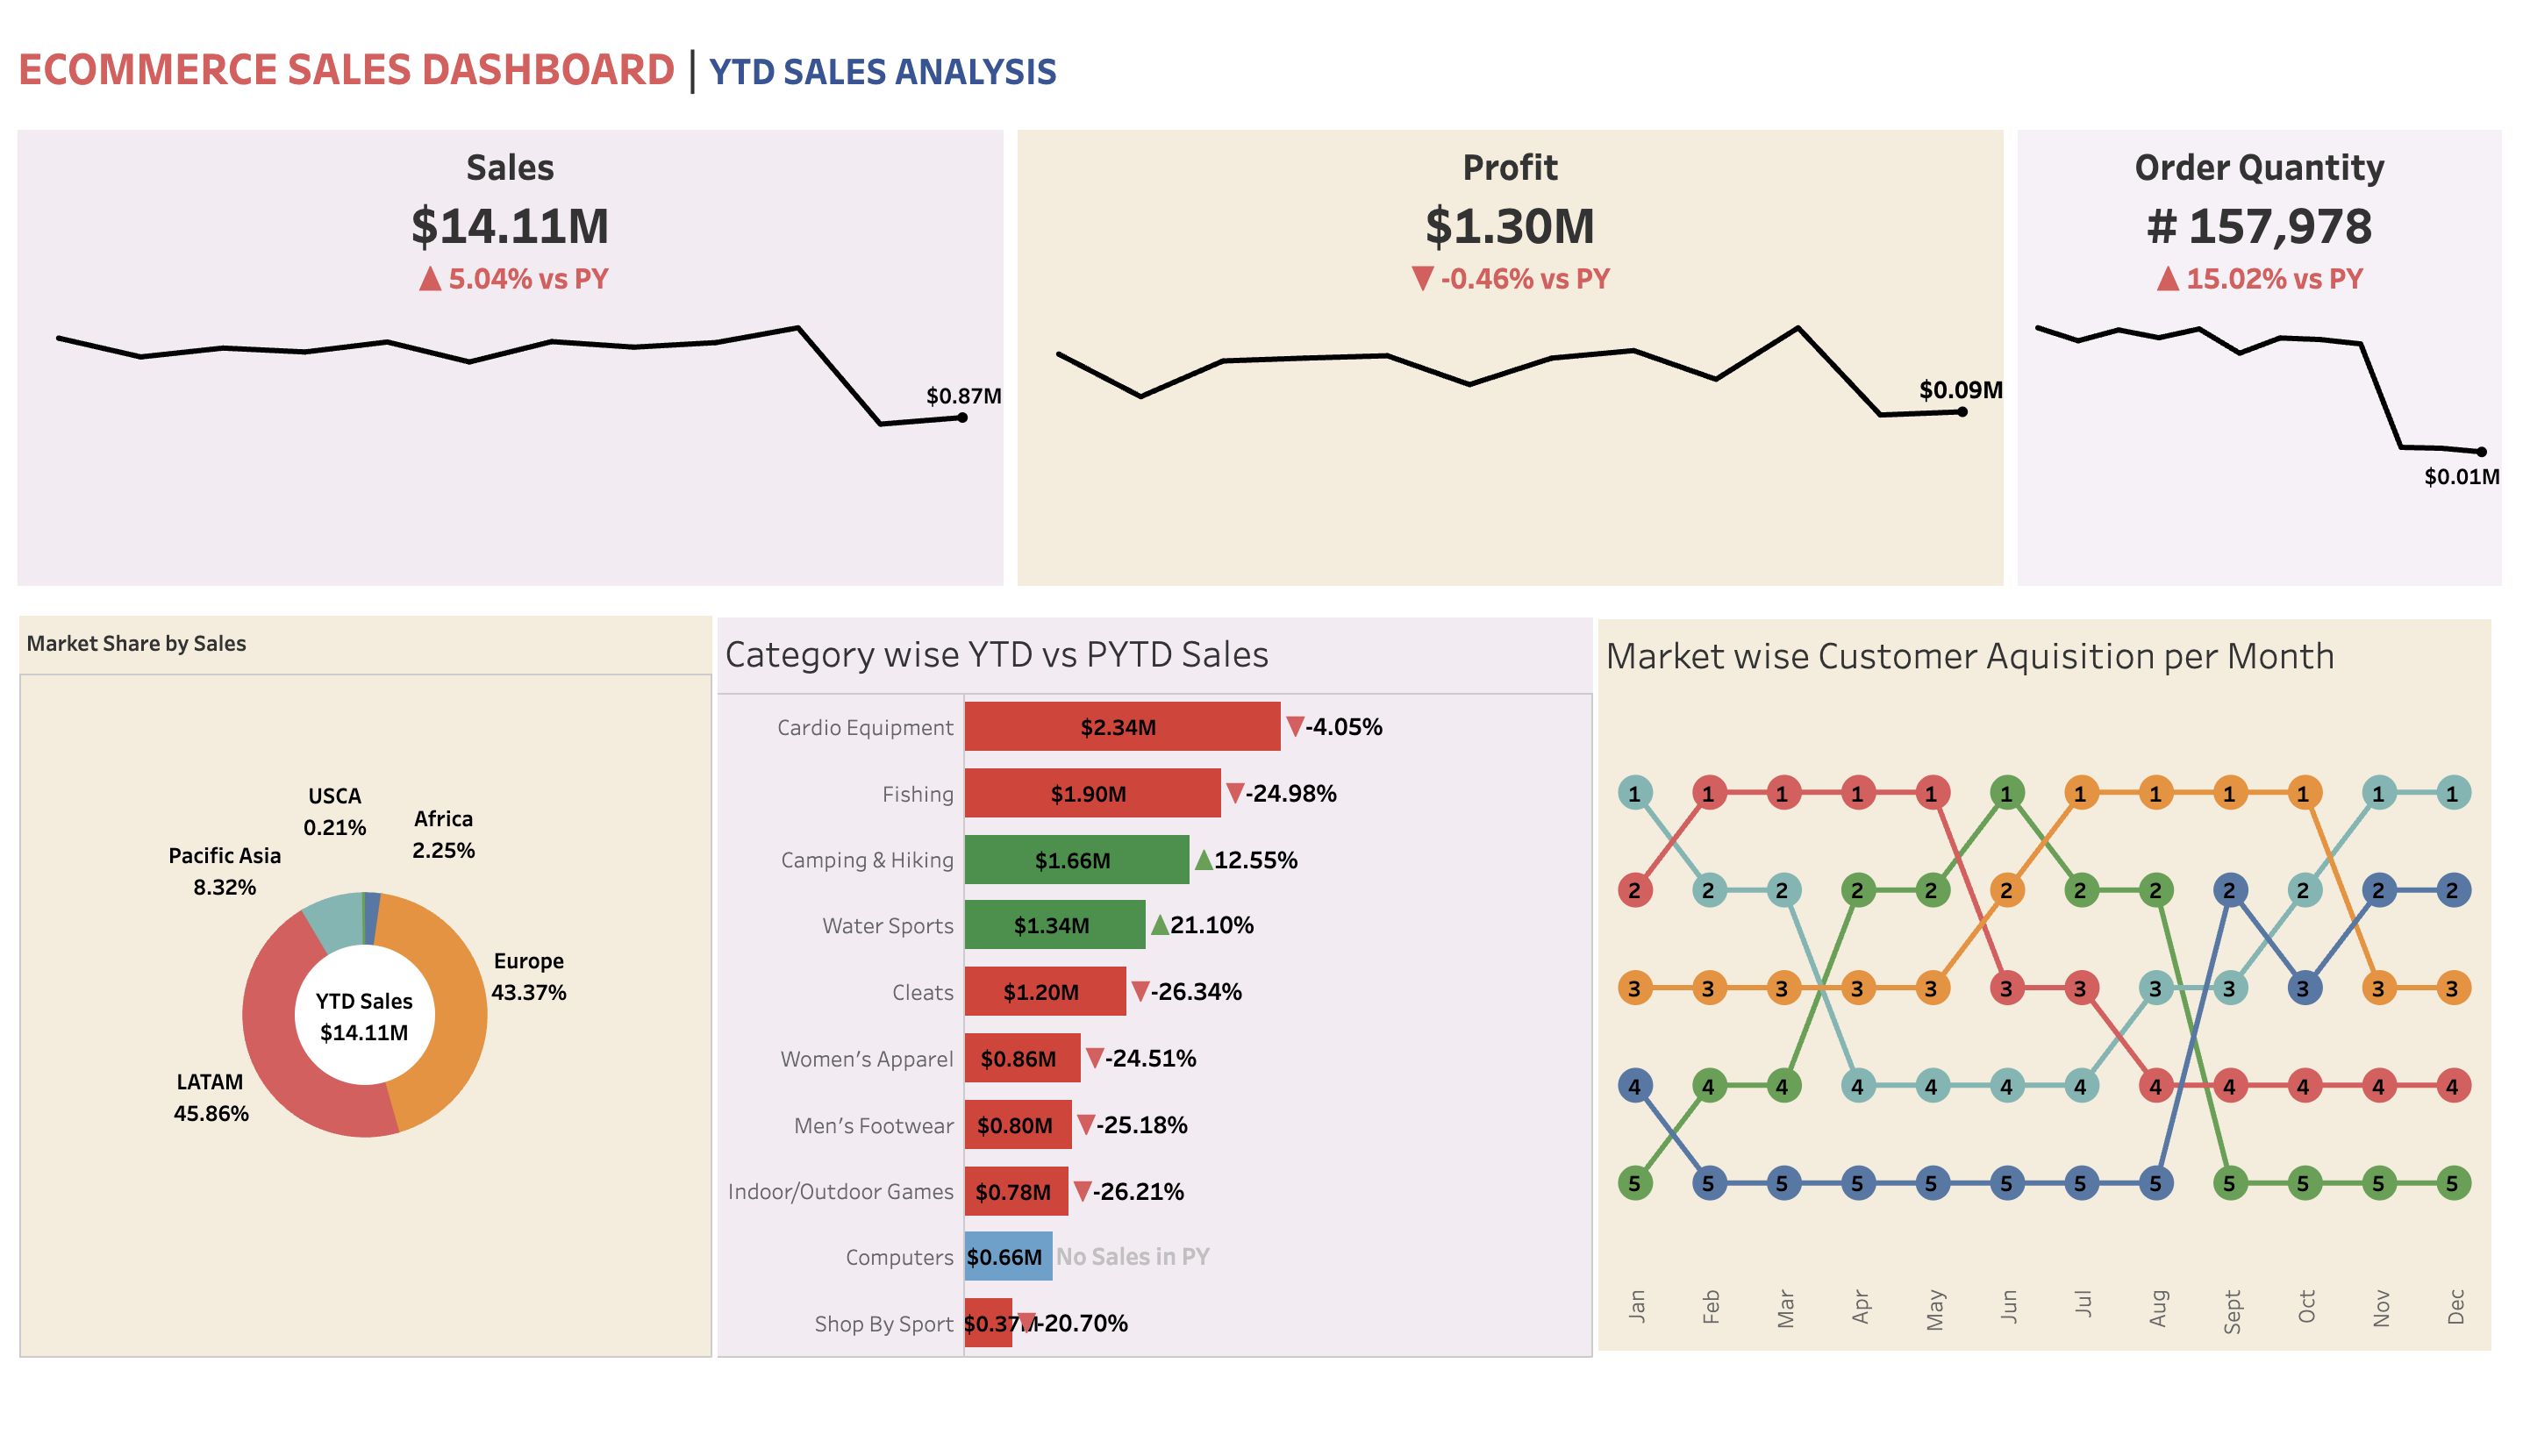

Layout of this report page (visuals, bound fields, positions):
{"tool":"tableau","page":{"name":"Dashboard 1","canvas":[1000,1000],"units":"permille","ordinal":0},"visuals":[{"type":"title","box":[6.6,9.3,986.8,73.2]},{"type":"worksheet","title":"Sales KPI","mark":"Automatic","rows":["Sales"],"cols":["Order Date"],"box":[6.6,82.5,376,311.6]},{"type":"worksheet","title":"Profit KPI","mark":"Automatic","rows":["Profit Per Order"],"cols":["Order Date"],"box":[382.6,82.5,376,311.6]},{"type":"worksheet","title":"Order Quantity KPI","mark":"Automatic","rows":["Order Quantity"],"cols":["Order Date"],"box":[758.5,82.5,234.7,311.6]},{"type":"worksheet","title":"Market Share by Sales","mark":"Pie","cols":["Calculation_0238314842476558","Calculation_0238314842476558"],"box":[9.1,403.5,274.4,483.7]},{"type":"worksheet","title":"Category wise YTD vs PYTD Sales","mark":"Bar","rows":["Category Name"],"cols":["Calculation_0238314842644495","Calculation_0238314842644495"],"box":[285.1,404.7,347.1,482.6]},{"type":"worksheet","title":"Market wise Customer Aquisition per Month","mark":"Automatic","cols":["Order Date"],"box":[633.9,405.8,353.7,477.9]}]}

Visuals, with their boxes on the dashboard's canvas, which has no fixed pixel size, in thousandths of its width and height (x1, y1, x2, y2). These are canvas units, not pixel positions in the 2523x1456 screenshot, which may show the page scaled, cropped or inside an application window:
title: x1=7 y1=9 x2=993 y2=82
"Sales KPI" worksheet: x1=7 y1=82 x2=383 y2=394
"Profit KPI" worksheet: x1=383 y1=82 x2=759 y2=394
"Order Quantity KPI" worksheet: x1=758 y1=82 x2=993 y2=394
"Market Share by Sales" worksheet (Pie marks): x1=9 y1=404 x2=284 y2=887
"Category wise YTD vs PYTD Sales" worksheet (Bar marks): x1=285 y1=405 x2=632 y2=887
"Market wise Customer Aquisition per Month" worksheet: x1=634 y1=406 x2=988 y2=884
